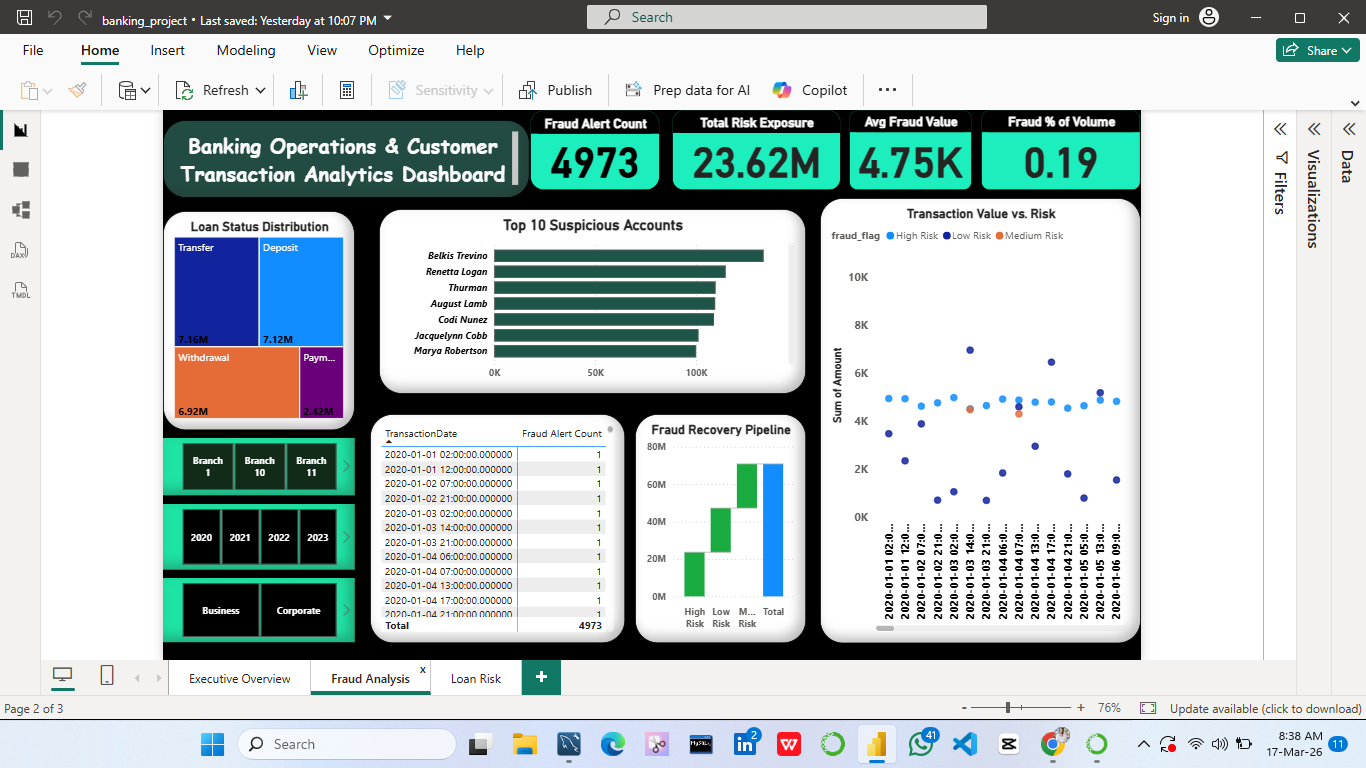

Layout of this report page (visuals, bound fields, positions):
{"tool":"powerbi","page":{"name":"Fraud Analysis","canvas":[1280,720],"ordinal":1},"visuals":[{"type":"card","title":"Fraud Alert Count","fields":{"Values":["banking_project transactions_cleaned.Fraud Alert Count"]},"box":[480.4,0,170.2,104.7],"z":0},{"type":"card","title":"Total Risk Exposure","fields":{"Values":["banking_project transactions_cleaned.// 2. Total Risk Exposure ($)Total Risk Exposure"]},"box":[666.3,0,221.2,104.7],"z":1000},{"type":"card","title":"Avg Fraud Value","fields":{"Values":["banking_project transactions_cleaned.Avg Fraud Value"]},"box":[898,0,161,104.7],"z":2000},{"type":"card","title":"Fraud % of Volume","fields":{"Values":["banking_project transactions_cleaned.Fraud % of Volume"]},"box":[1070.8,0,209.5,104.7],"z":3000},{"type":"pivotTable","title":"Transaction Trend","fields":{"Values":["banking_project transactions_cleaned.Fraud Alert Count"],"Rows":["banking_project transactions_cleaned.TransactionDate"]},"box":[271,398,333.8,299.8],"z":4000},{"type":"clusteredBarChart","title":"Top 10 Suspicious Accounts","fields":{"Y":["banking_project transactions_cleaned.Total Risk Exposure ($)Total Risk Exposure"],"Category":["banking_project customers_cleaned.FullName"]},"box":[282.8,129.6,559,242.2],"z":5000},{"type":"treemap","title":"Loan Status Distribution","fields":{"Group":["banking_project transactions_cleaned.TransactionType"],"Values":["banking_project transactions_cleaned.Total Risk Exposure ($)Total Risk Exposure"]},"box":[0,132.2,251.3,286.7],"z":6000},{"type":"scatterChart","title":"Transaction Value vs. Risk","fields":{"X":["banking_project transactions_cleaned.TransactionDate"],"Y":["Sum(banking_project transactions_cleaned.Amount)"],"Series":["banking_project transactions_cleaned.fraud_flag"]},"box":[860.1,115.2,420.2,582.5],"z":7000},{"type":"slicer","fields":{"Values":["banking_project branches_cleaned.BranchName"]},"box":[0,429.4,251.3,74.6],"z":8000},{"type":"slicer","fields":{"Values":["banking_project transactions_cleaned.Year"]},"box":[0,515.8,251.3,86.4],"z":9000},{"type":"slicer","fields":{"Values":["banking_project customers_cleaned.CustomerType"]},"box":[0,612.7,251.3,83.8],"z":10000},{"type":"textbox","box":[0,13.1,480.4,102.1],"z":11000},{"type":"waterfallChart","title":"Fraud Recovery Pipeline","fields":{"Category":["banking_project transactions_cleaned.fraud_flag"],"Y":["banking_project transactions_cleaned.Total Risk Exposure ($)Total Risk Exposure"]},"box":[617.9,398,223.9,299.8],"z":12000}]}

Visuals, with their boxes on the page's 1280x720 design canvas (x1, y1, x2, y2). These are canvas units, not pixel positions in the 1366x768 screenshot, which may show the page scaled, cropped or inside an application window:
"Fraud Alert Count" card: x1=480 y1=0 x2=651 y2=105
"Total Risk Exposure" card: x1=666 y1=0 x2=888 y2=105
"Avg Fraud Value" card: x1=898 y1=0 x2=1059 y2=105
"Fraud % of Volume" card: x1=1071 y1=0 x2=1280 y2=105
"Transaction Trend" pivotTable: x1=271 y1=398 x2=605 y2=698
"Top 10 Suspicious Accounts" clusteredBarChart: x1=283 y1=130 x2=842 y2=372
"Loan Status Distribution" treemap: x1=0 y1=132 x2=251 y2=419
"Transaction Value vs. Risk" scatterChart: x1=860 y1=115 x2=1280 y2=698
slicer - banking_project branches_cleaned.BranchName: x1=0 y1=429 x2=251 y2=504
slicer - banking_project transactions_cleaned.Year: x1=0 y1=516 x2=251 y2=602
slicer - banking_project customers_cleaned.CustomerType: x1=0 y1=613 x2=251 y2=696
textbox: x1=0 y1=13 x2=480 y2=115
"Fraud Recovery Pipeline" waterfallChart: x1=618 y1=398 x2=842 y2=698
